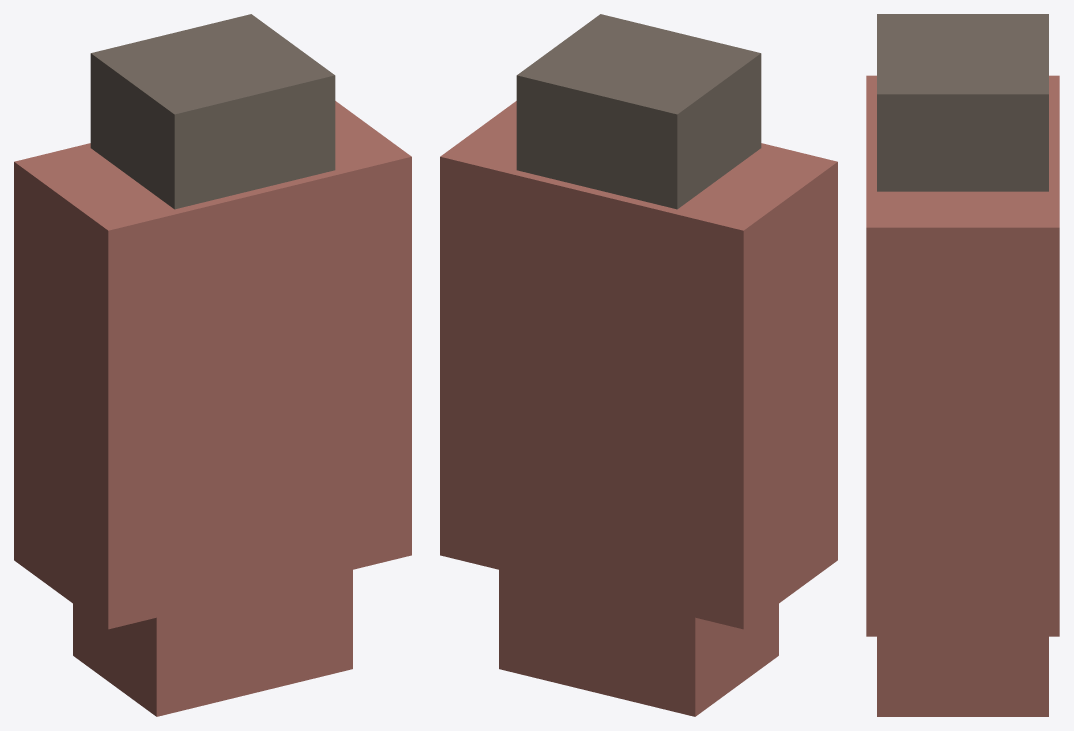
Rendered from iz2_item_sugar_pack.glb.
3 renders of one model, left to right at view 1: azimuth 30°, elevation 25°; view 2: azimuth 150°, elevation 25°; view 3: azimuth 270°, elevation 25°, orthographic. The views are drawn at different scales.
Visible parts, largest first — view 1: body; view 2: body; view 3: body.
Boxes of the visible parts, x1,y1,x2,y2 form: body: [14, 14, 411, 716]; body: [440, 14, 837, 716]; body: [866, 14, 1059, 716].
Bounding box in the file's own units: 0.3336 × 0.6284 × 0.1796.
